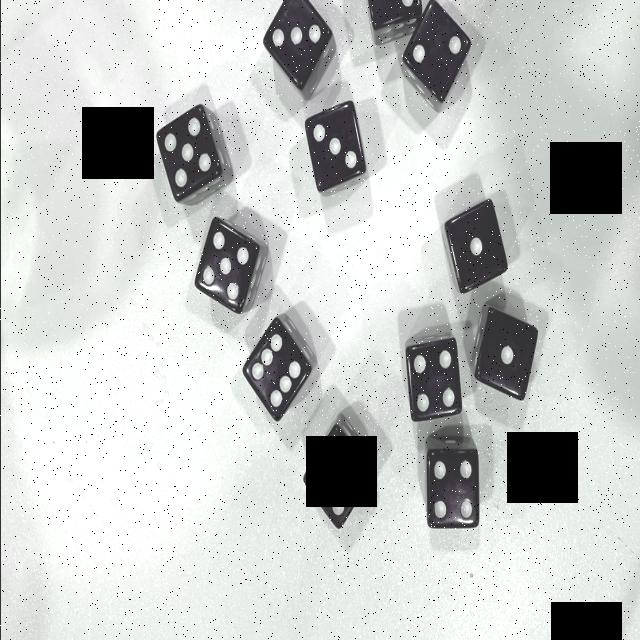DICE1: (483, 323, 537, 387), (456, 187, 499, 261)
DICE2: (401, 21, 476, 106), (358, 0, 423, 11)
DICE3: (294, 111, 369, 218), (258, 0, 338, 66)
DICE4: (414, 440, 482, 560), (393, 318, 461, 428)
DICE5: (181, 228, 268, 306), (156, 100, 226, 192)
DICE6: (296, 403, 372, 582), (234, 314, 308, 448)
